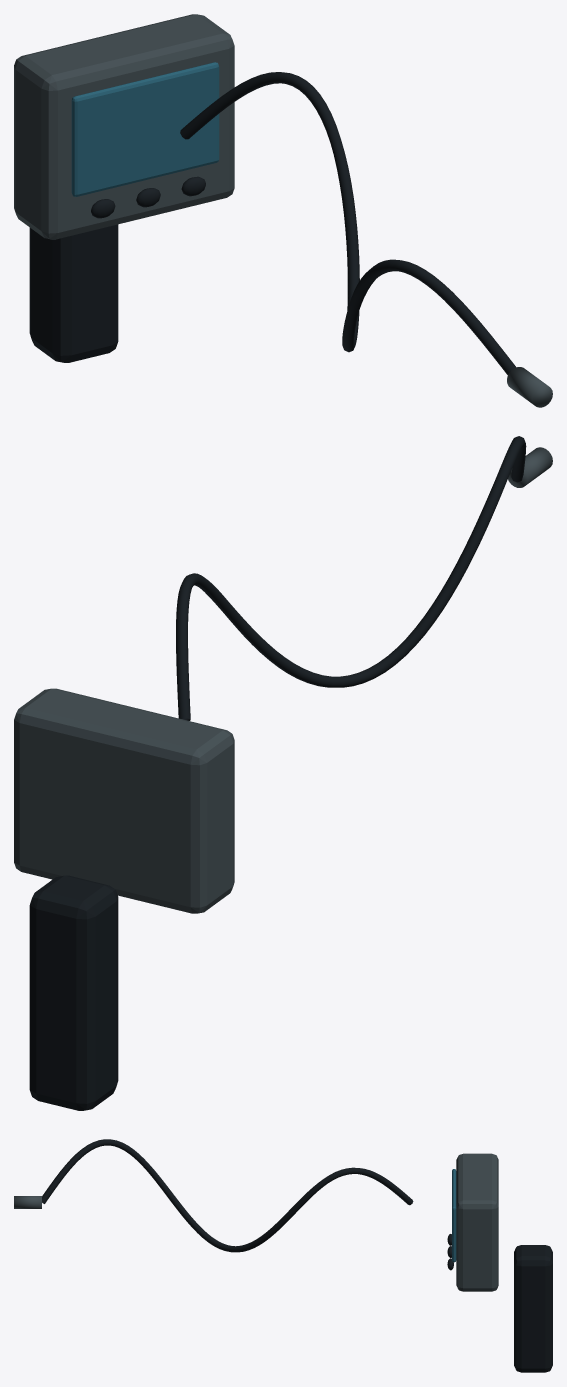
Rendered from PROP_Borescope.glb.
3 renders of one model, top to bottom at view 1: azimuth 30°, elevation 25°; view 2: azimuth 150°, elevation 25°; view 3: azimuth 270°, elevation 25°, orthographic. The views are drawn at different scales.
Visible parts, largest first — view 1: PROP_Borescope; view 2: PROP_Borescope; view 3: PROP_Borescope.
Part boxes in pixels (x1,y1,x2,y2): PROP_Borescope: (14, 14, 552, 407); PROP_Borescope: (14, 436, 552, 1110); PROP_Borescope: (14, 1139, 552, 1372).
Size of the model in its own units: 0.11 by 0.2105 by 0.4825.
Materials: 1 (1 with a texture image).
